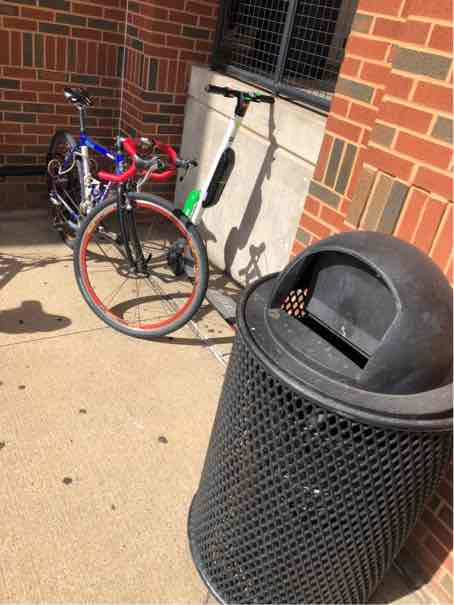scooter: (163, 78, 270, 348)
